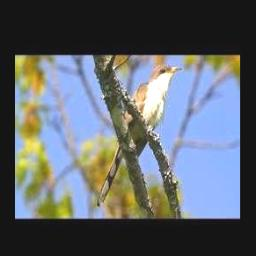Cuckoo: (98, 65, 183, 207)
